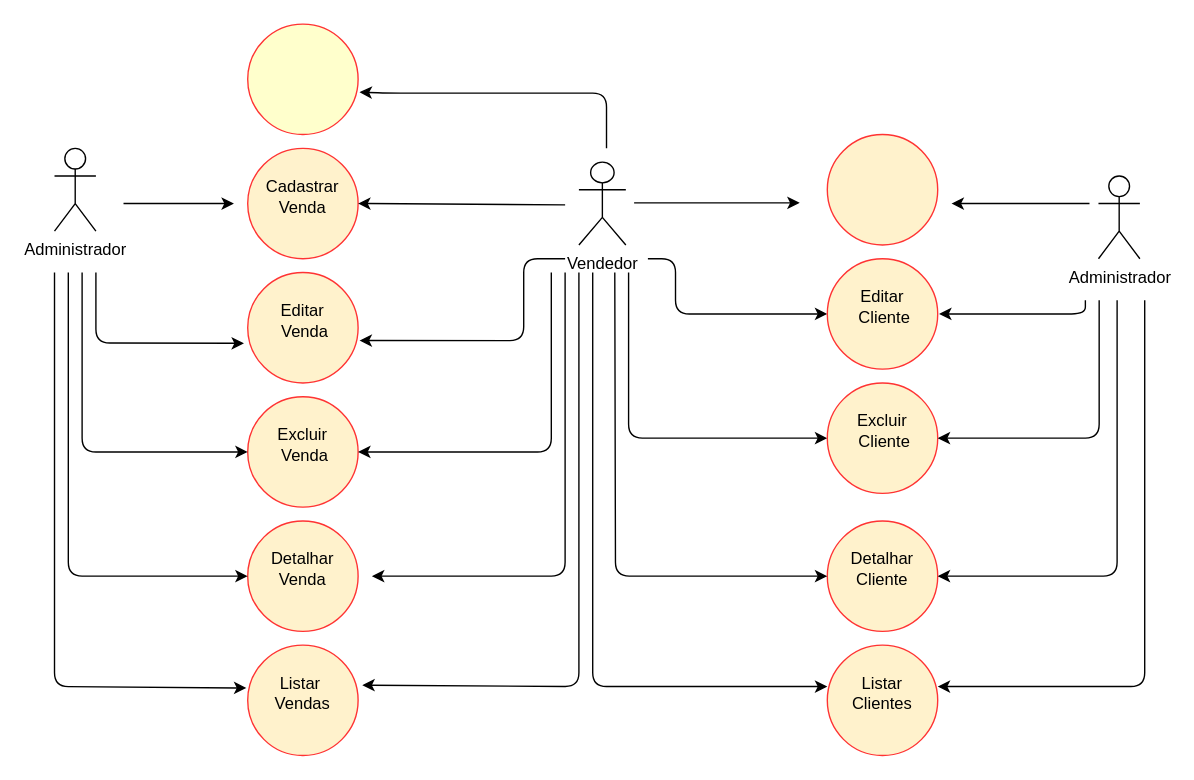
Image size: 1194x780. Some labels were removed from this diagram. Each missing label, with the centre of its shape:
Cadastrar Cliente: the point at 882,189
Consultar Indicadores de Vendas: the point at 302,79
